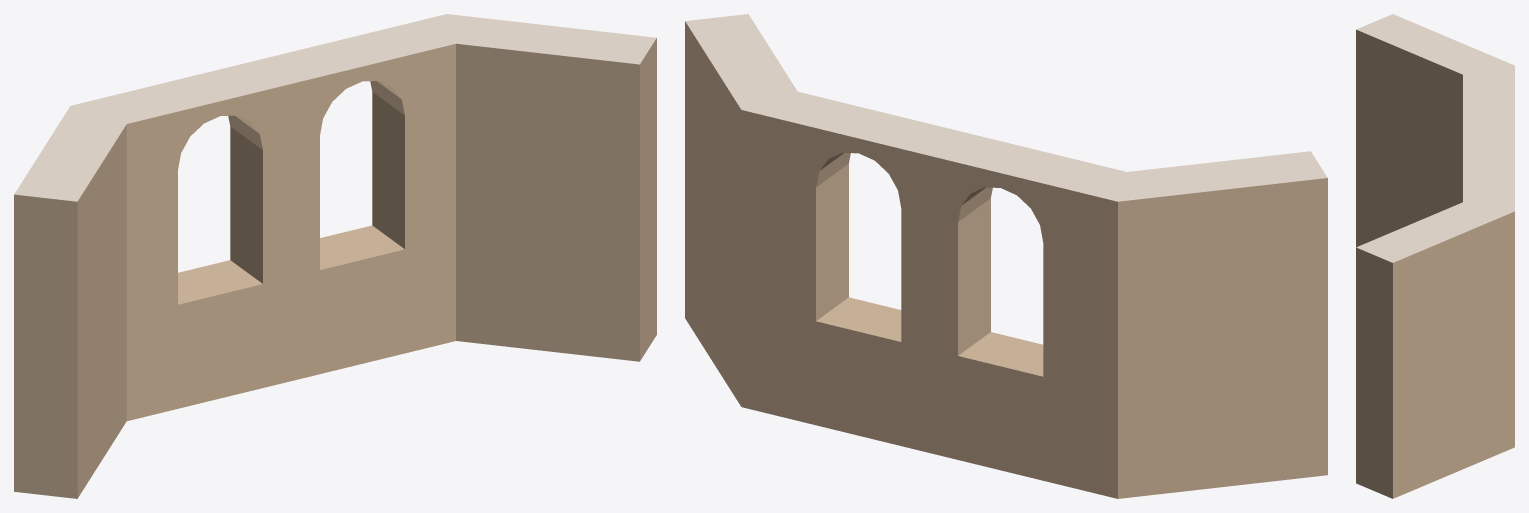
Rendered from Tower_Wall_Normal_Windows.fbx.
3 views of the same model, side by side, from view 1: azimuth 30°, elevation 25°; view 2: azimuth 150°, elevation 25°; view 3: azimuth 270°, elevation 25° (orthographic). The views are drawn at different scales.
Visible parts, largest first — view 1: Sandstone_Trim.object1, Sandstone_Floor; view 2: Sandstone_Trim.object1, Sandstone_Floor; view 3: Sandstone_Trim.object1, Sandstone_Floor.
Boxes of the visible parts, x1,y1,x2,y2 form: Sandstone_Trim.object1: [14, 38, 656, 498]; Sandstone_Floor: [14, 14, 656, 201]; Sandstone_Trim.object1: [685, 21, 1327, 498]; Sandstone_Floor: [685, 14, 1327, 201]; Sandstone_Trim.object1: [1356, 29, 1514, 498]; Sandstone_Floor: [1356, 14, 1514, 262].
Size of the model in its own units: 2.26 by 1 by 0.6101.
